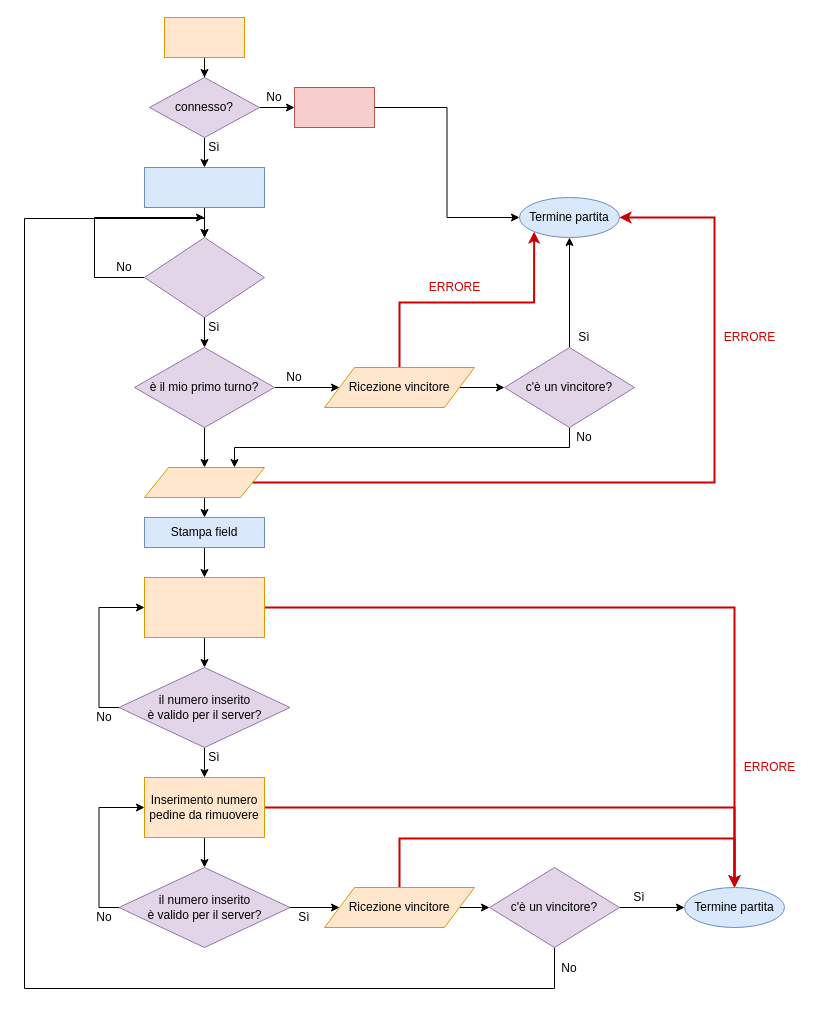
Some shapes in this 822 by 1014 pixel diagram are drawn without their labels. Here are the shapes that lost their labels. From the top down, the box of each, then its label:
(164, 16, 244, 58): connessione al server
(294, 86, 374, 128): connessione fallita
(144, 166, 264, 208): Attesa altro giocatore
(144, 236, 264, 318): è il mio turno?
(144, 466, 264, 498): Ricezione field
(144, 576, 264, 638): Inserimento numero pila
